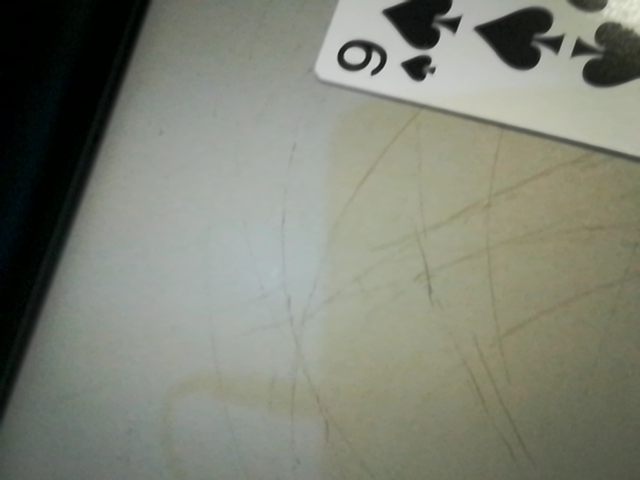ht 9: (315, 13, 457, 98)
